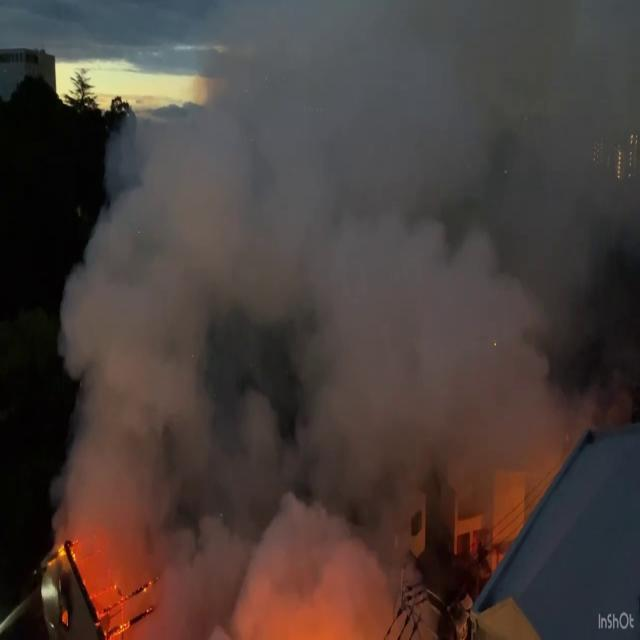Smoke: (43, 1, 637, 634)
